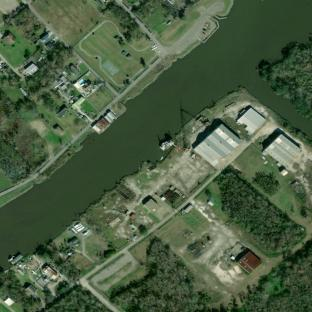Floresta: (216, 166, 305, 253), (111, 237, 210, 312), (229, 238, 312, 312), (258, 41, 312, 121), (29, 41, 73, 94), (41, 285, 111, 312), (0, 137, 29, 181)
